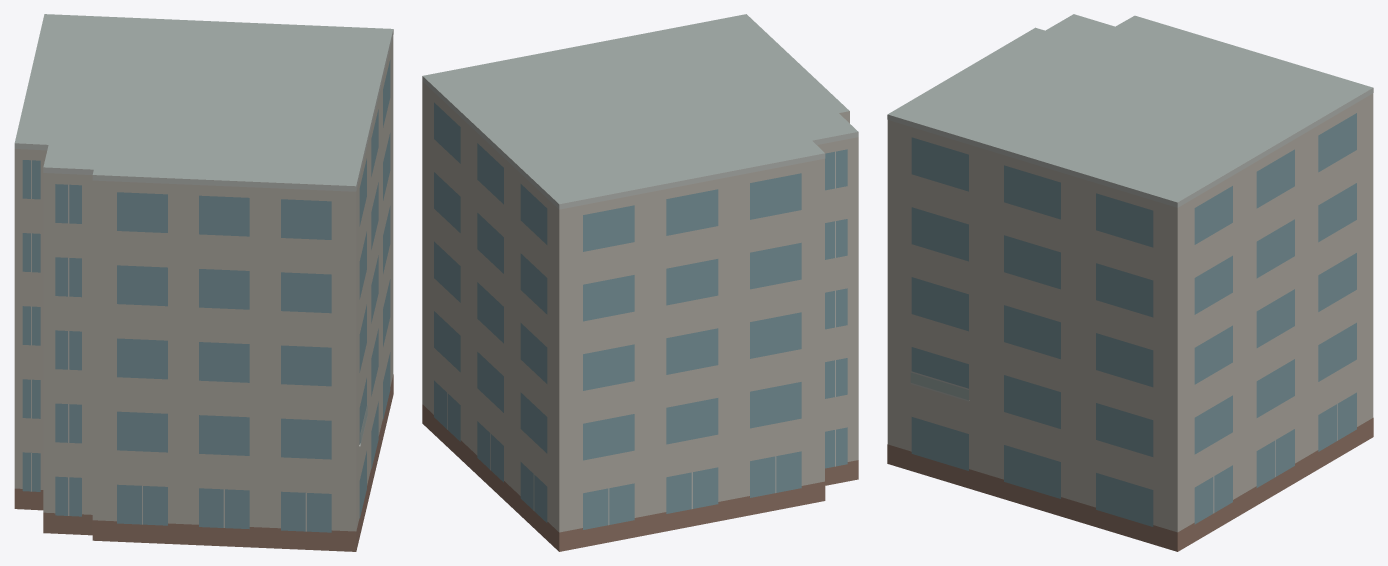
File: survey-upis-32976780.glb
3 views of the same model, side by side, from view 1: azimuth 30°, elevation 25°; view 2: azimuth 150°, elevation 25°; view 3: azimuth 270°, elevation 25° (orthographic). The views are drawn at different scales.
Visible parts, largest first — view 1: survey-upis-32976780.tmp; view 2: survey-upis-32976780.tmp; view 3: survey-upis-32976780.tmp.
Part boxes in pixels (x1=…): survey-upis-32976780.tmp: x1=14, y1=14, x2=393, y2=551; survey-upis-32976780.tmp: x1=422, y1=14, x2=858, y2=551; survey-upis-32976780.tmp: x1=887, y1=14, x2=1373, y2=551.
Bounding box in the file's own units: 18.41 × 15.9 × 20.05.
